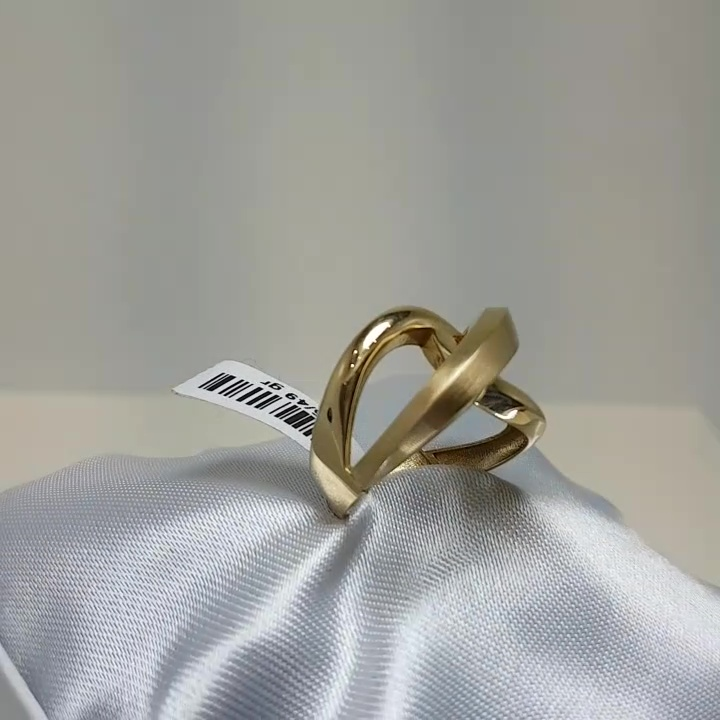Ring 3: (286, 295, 549, 543)
